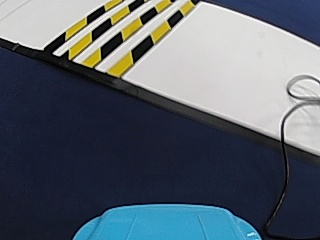bump: (41, 9, 155, 72)
